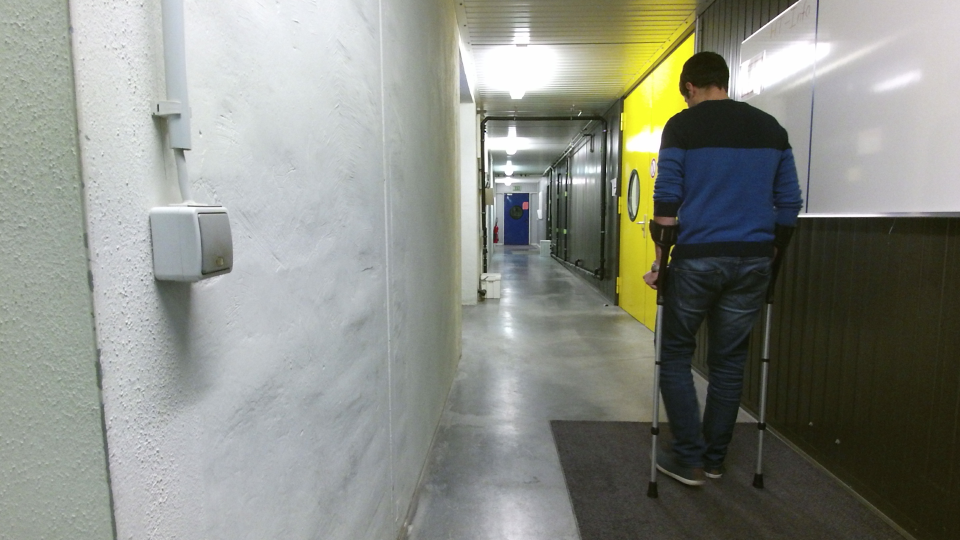crutches: (637, 40, 812, 504)
